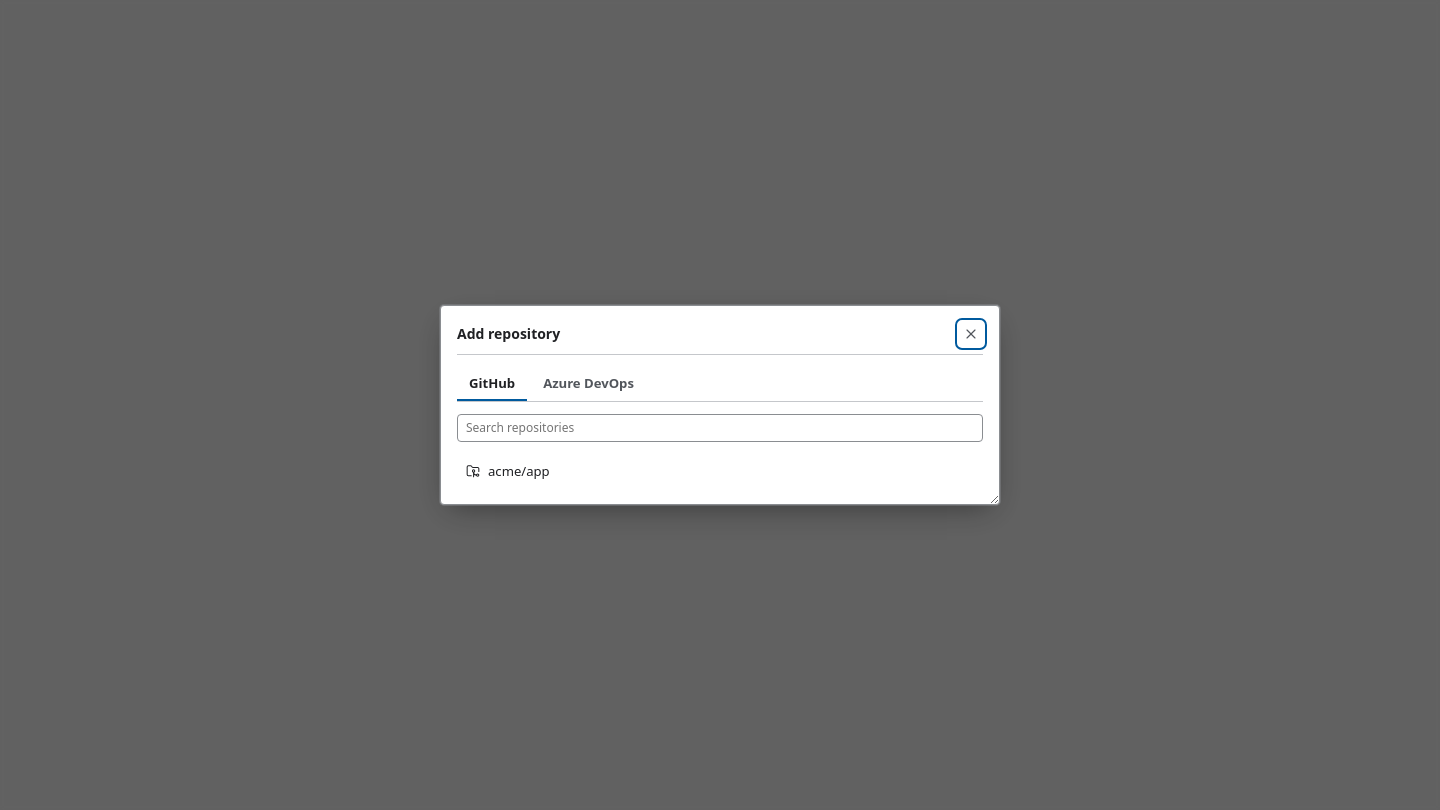
Test: RepoPicker context add flow › browses for a clone parent folder and appends the repo leaf name
Step 1. Click the button "acme/app" → {"x": 519, "y": 471}, box [457,454,983,488]
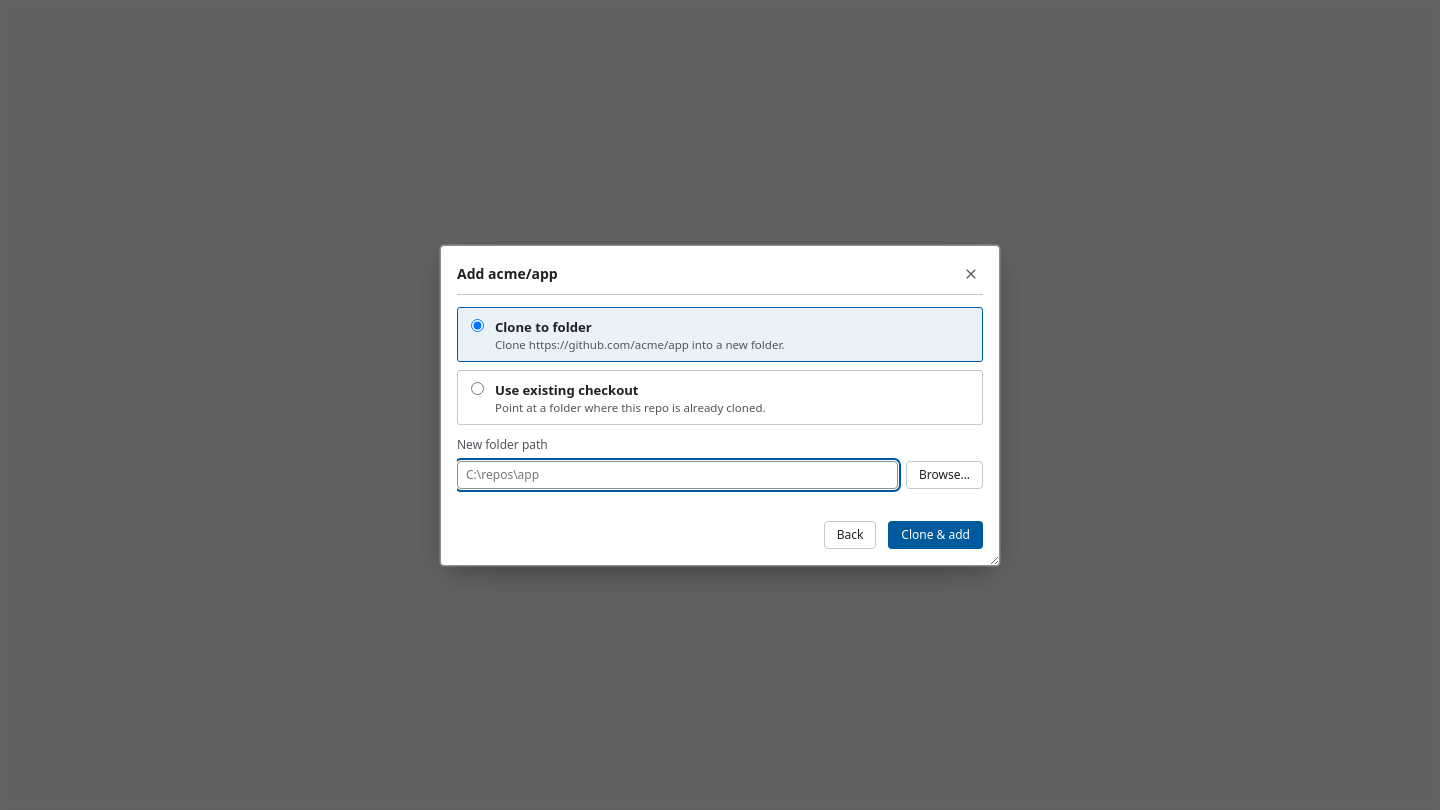
Step 2. Click the button "Browse…" → {"x": 944, "y": 474}, box [906,460,983,488]
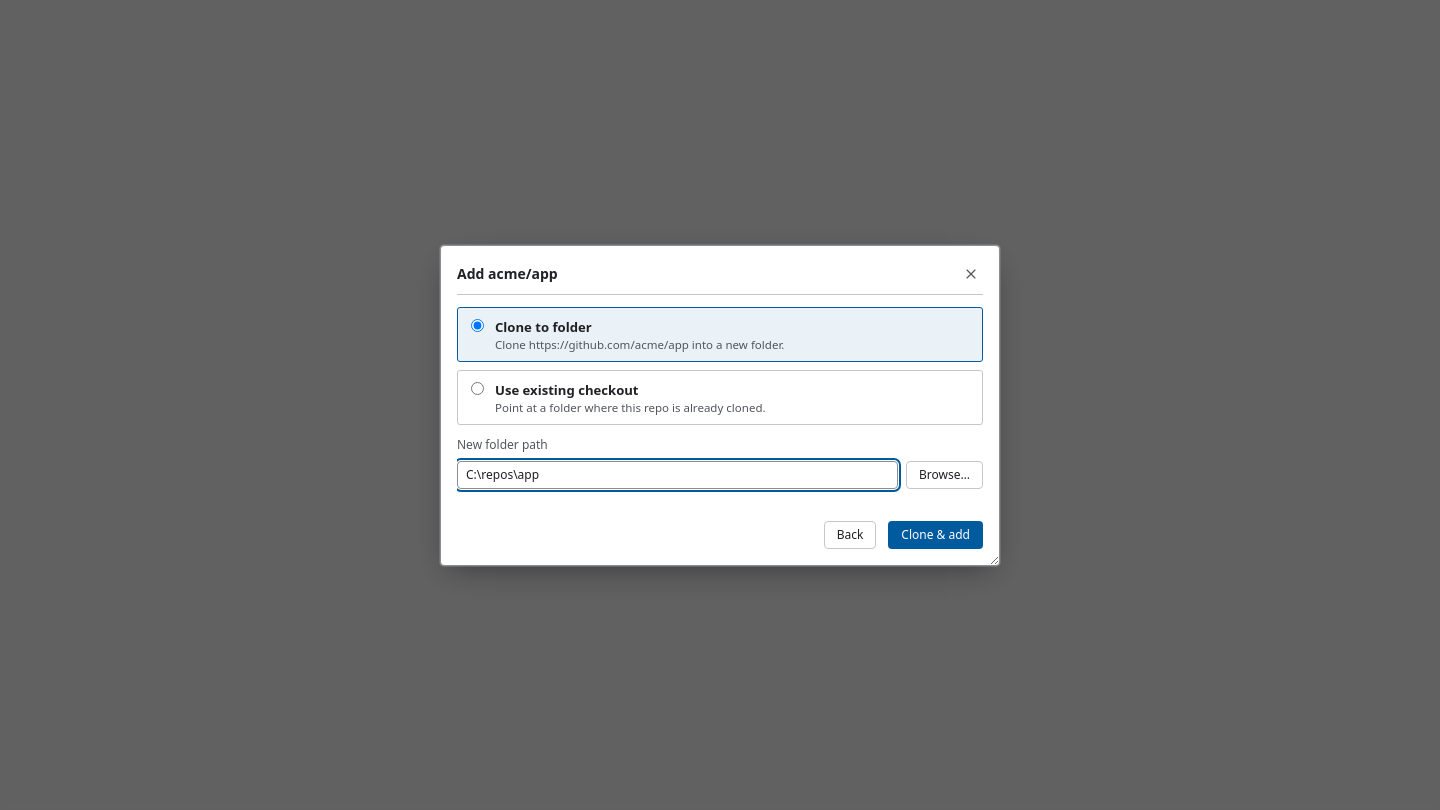
Expected: the field labelled "New folder path" holds "C:\\repos\\app", [457,460,898,488]
